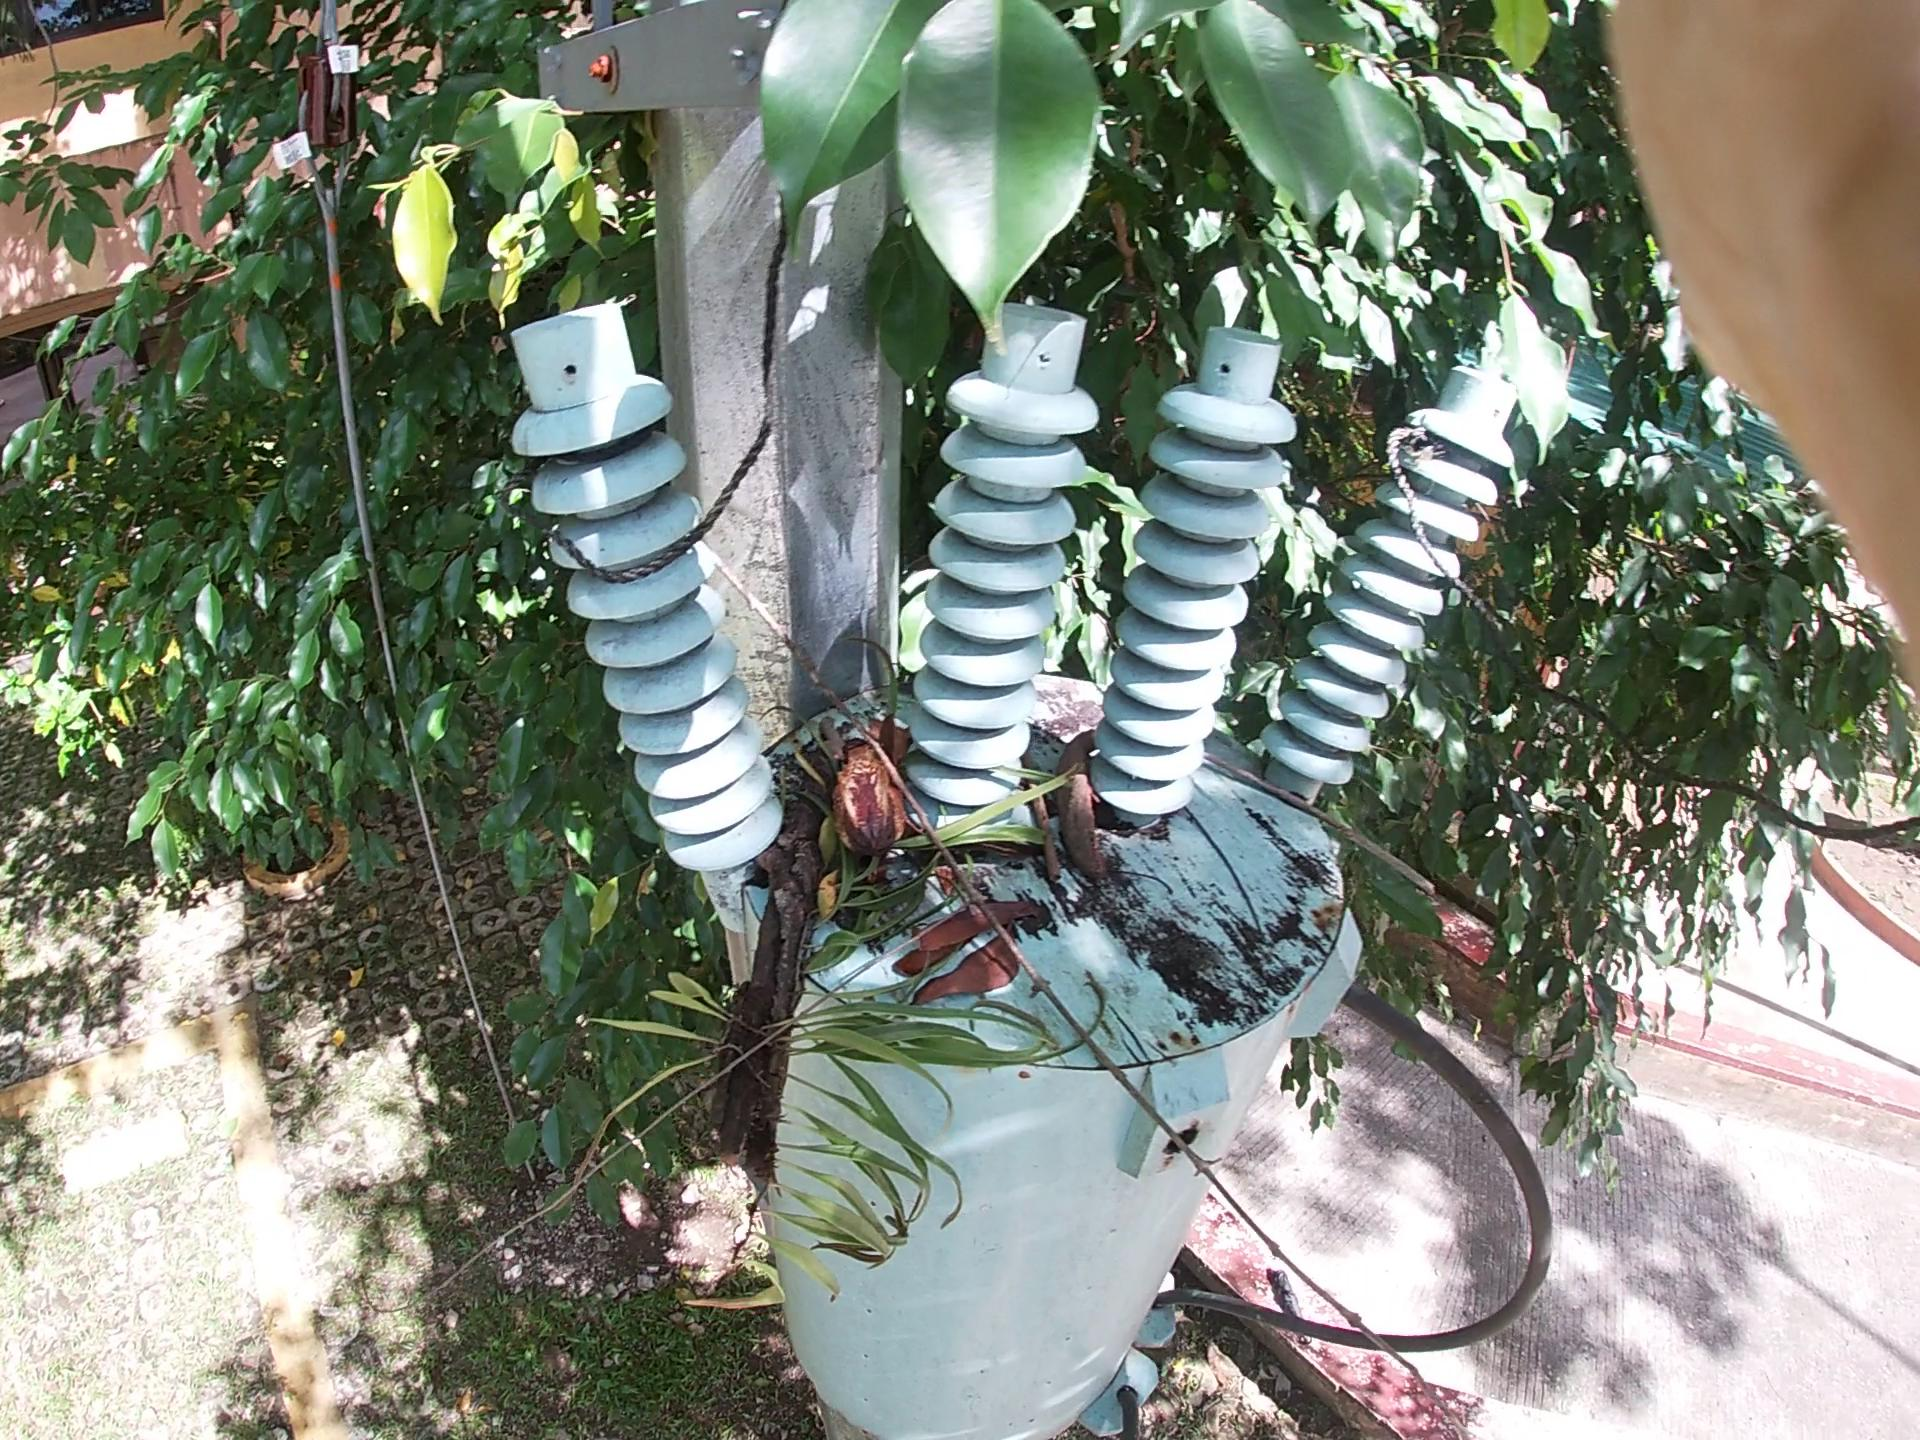leaf: (906, 924, 1048, 1033)
mahogany fruit: (1030, 626, 1194, 935), (782, 659, 974, 920)
tree branch: (705, 529, 1485, 1440), (608, 681, 872, 1195), (1200, 771, 1430, 930), (1002, 703, 1092, 1000)
